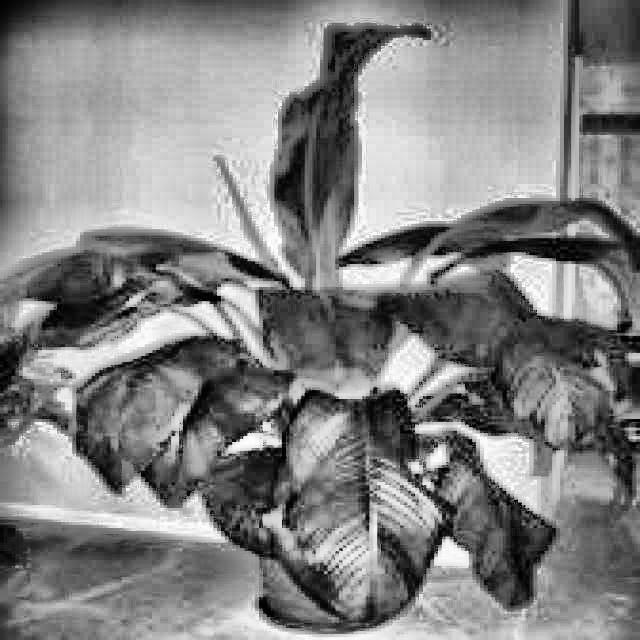plants: (0, 8, 636, 638), (67, 320, 284, 502), (402, 422, 560, 620)
